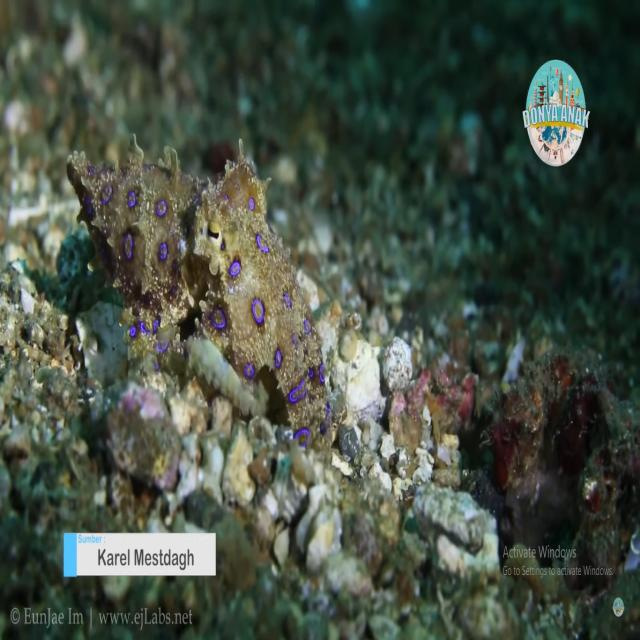blue_ringed_octopus: (66, 128, 333, 452)
